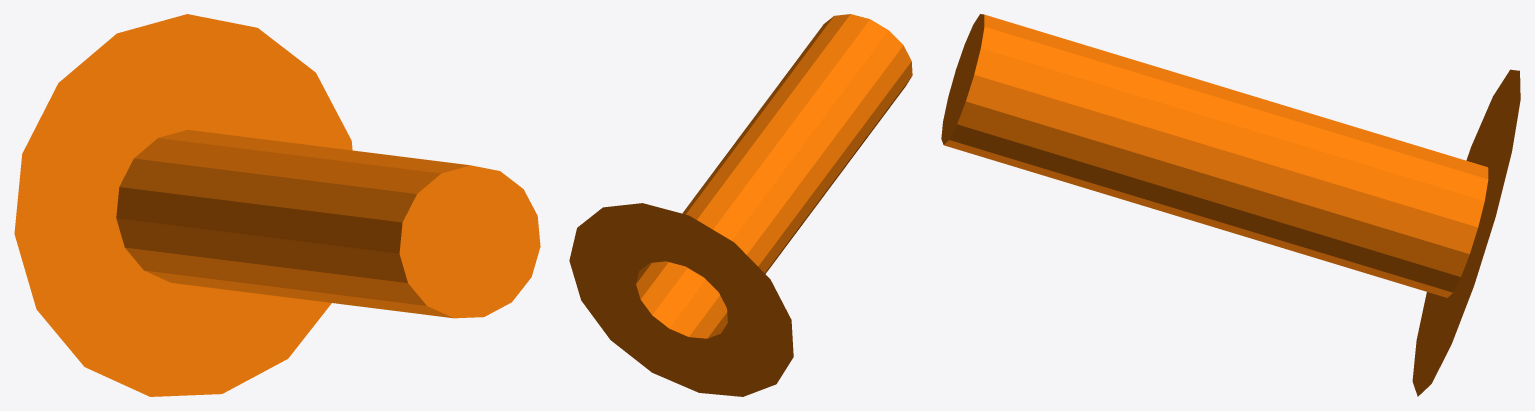
The model's file is original-7.obj.
3 views of the same model, side by side, from view 1: azimuth 30°, elevation 25°; view 2: azimuth 150°, elevation 25°; view 3: azimuth 270°, elevation 25° (orthographic). The views are drawn at different scales.
Visible parts, largest first — view 1: Component_8_1/Component_8/mesh5/mesh5-geometry#mesh5-geometry; view 2: Component_8_1/Component_8/mesh5/mesh5-geometry#mesh5-geometry; view 3: Component_8_1/Component_8/mesh5/mesh5-geometry#mesh5-geometry.
Part boxes in pixels (x1=…): Component_8_1/Component_8/mesh5/mesh5-geometry#mesh5-geometry: x1=14, y1=14, x2=540, y2=396; Component_8_1/Component_8/mesh5/mesh5-geometry#mesh5-geometry: x1=569, y1=14, x2=912, y2=396; Component_8_1/Component_8/mesh5/mesh5-geometry#mesh5-geometry: x1=941, y1=14, x2=1520, y2=396.
Size of the model in its own units: 0.0195 by 0.0222 by 0.0325.
